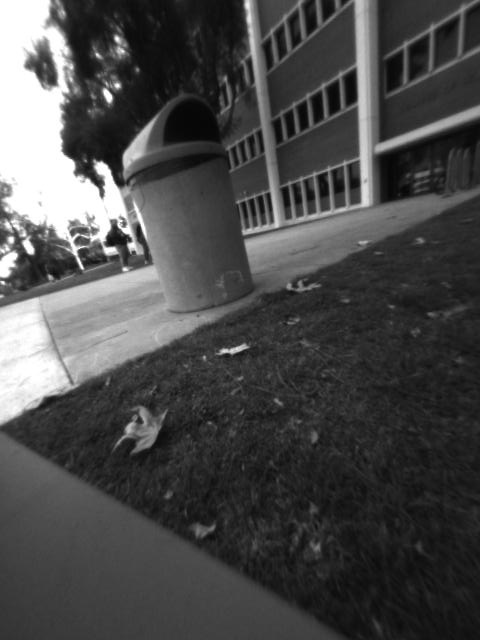trashcan: (121, 92, 264, 311)
